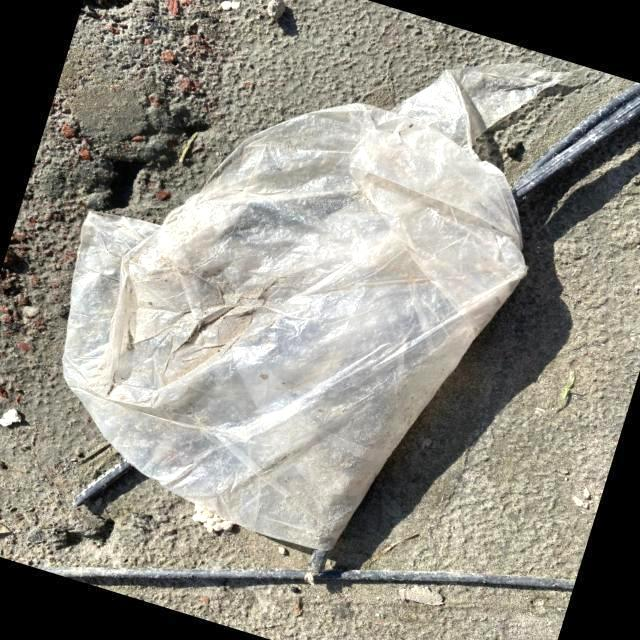polythene: (104, 148, 493, 469)
